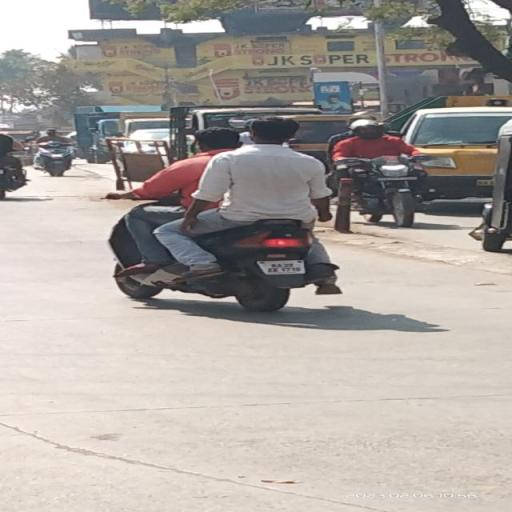bike: (102, 115, 343, 314)
numberplate: (257, 259, 307, 274)
withouthelmet: (251, 118, 296, 144), (194, 128, 242, 148)
